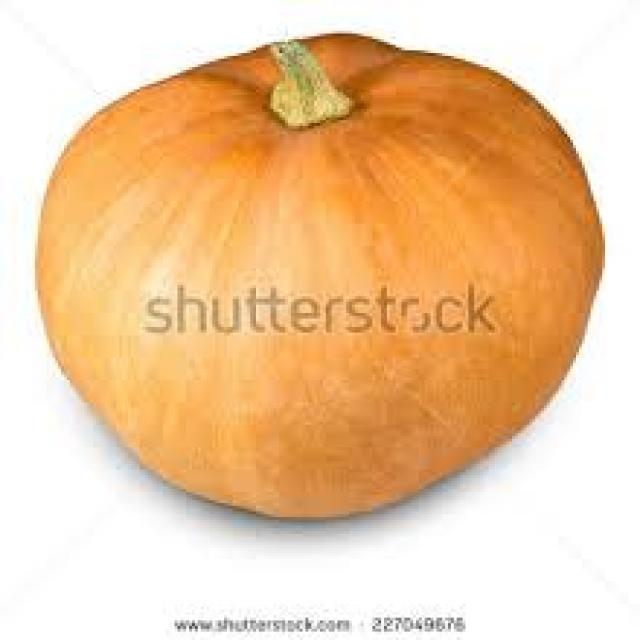organic waste: (35, 31, 599, 517)
